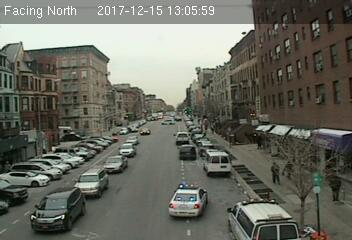car: (30, 186, 88, 232), (74, 169, 108, 196), (104, 155, 128, 174), (177, 145, 198, 161), (173, 130, 191, 146), (118, 143, 137, 157), (126, 136, 139, 144)
pedestrian: (268, 158, 282, 187), (284, 158, 294, 183)
police: (225, 197, 300, 240), (167, 182, 210, 220)
truck: (203, 151, 231, 176)
